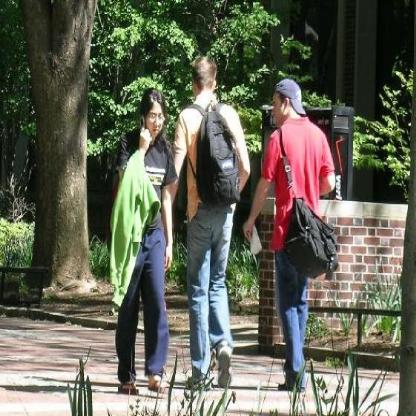person: (245, 73, 341, 391), (170, 42, 247, 390), (106, 83, 168, 393)
